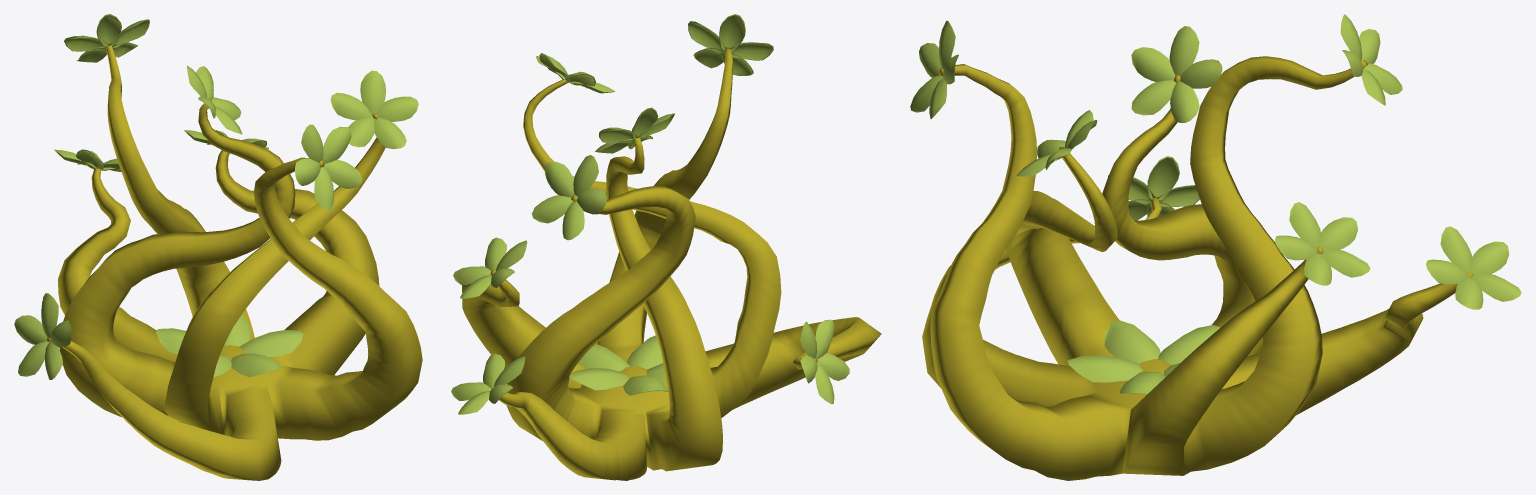
The model's file is BushPlant01.fbx.
The picture shows the model from 3 angles, left to right: view 1: azimuth 30°, elevation 25°; view 2: azimuth 150°, elevation 25°; view 3: azimuth 270°, elevation 25°; orthographic projection. The views are drawn at different scales.
Parts seen in each view (by area): view 1: BushPlant01_LOD0; view 2: BushPlant01_LOD0; view 3: BushPlant01_LOD0.
Part boxes in pixels (bbox=[...]): BushPlant01_LOD0: bbox=[14, 14, 422, 480]; BushPlant01_LOD0: bbox=[451, 14, 881, 480]; BushPlant01_LOD0: bbox=[910, 14, 1521, 480].
Size of what is drawn, in the model's own units: 20.36 by 19.7 by 26.16.
